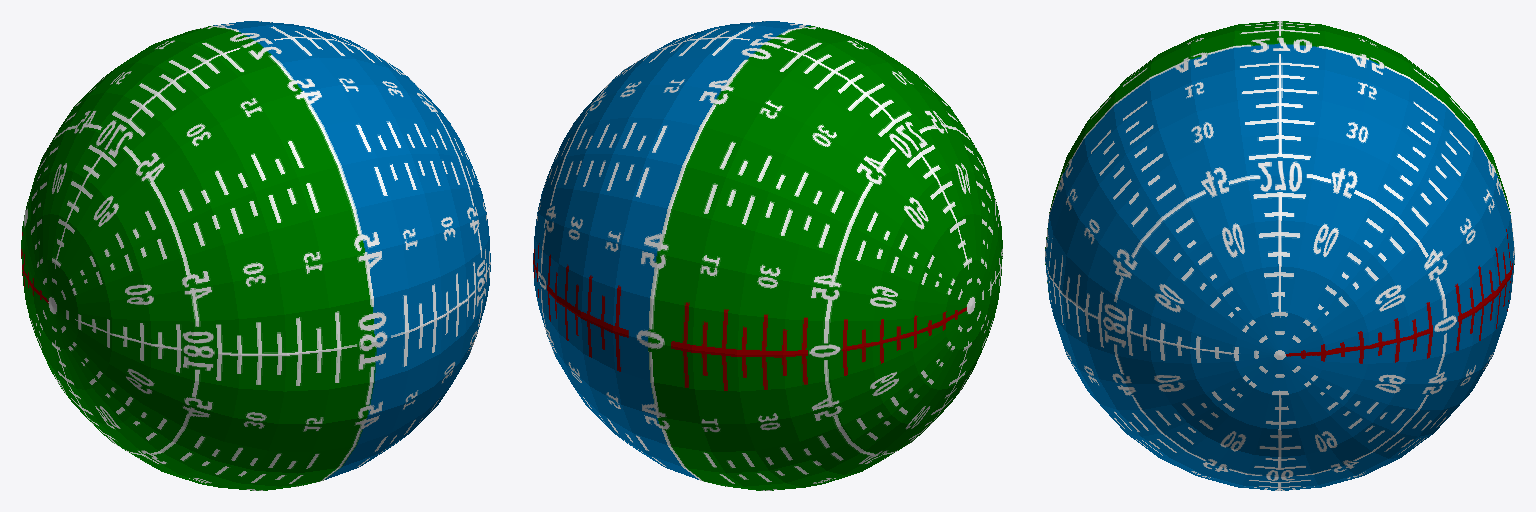
3 views of the same model, side by side, from view 1: azimuth 30°, elevation 25°; view 2: azimuth 150°, elevation 25°; view 3: azimuth 270°, elevation 25° (orthographic).
Visible parts, largest first — view 1: Sphere; view 2: Sphere; view 3: Sphere.
Part boxes in pixels (x1,y1,x2,y2): Sphere: (21,21,490,490); Sphere: (533,21,1002,490); Sphere: (1045,21,1514,490).
Size of the model in its own units: 2 by 2 by 2.
Materials: 1 (1 with a texture image).